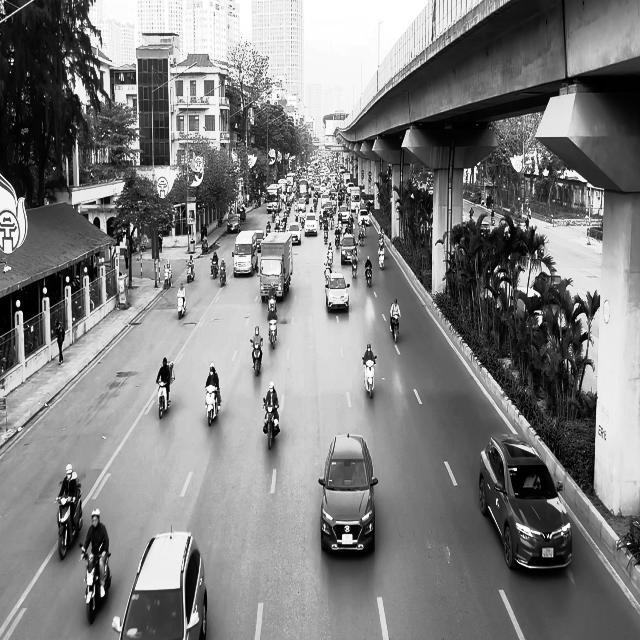car: (478, 433, 573, 571), (112, 528, 208, 639), (318, 433, 378, 554), (325, 271, 349, 312), (227, 213, 240, 233)
motorbike: (78, 542, 112, 624), (55, 483, 83, 560), (262, 400, 280, 450), (204, 385, 221, 426), (362, 355, 377, 398), (250, 338, 263, 376), (390, 314, 400, 342), (268, 321, 277, 348), (177, 293, 186, 319), (364, 262, 372, 287), (163, 266, 172, 288), (378, 242, 385, 269), (186, 260, 194, 282), (210, 259, 218, 278), (219, 267, 226, 286)
truck: (260, 232, 292, 302)
